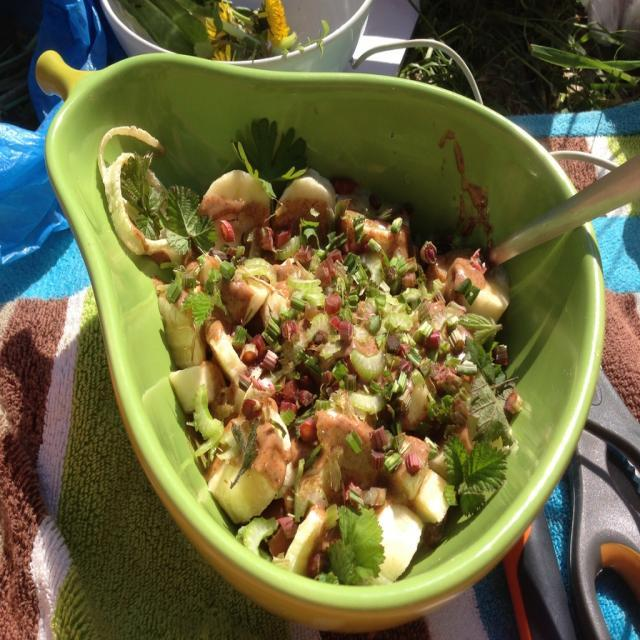Salad: (92, 102, 522, 566)
